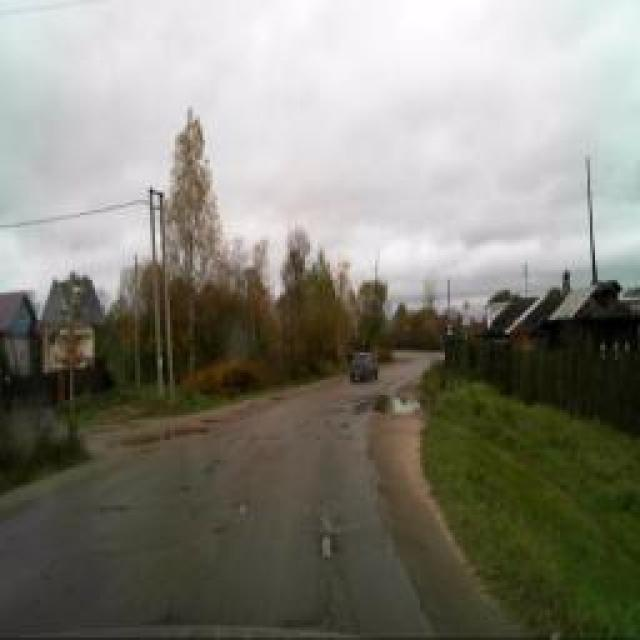sign: (461, 296, 471, 314)
